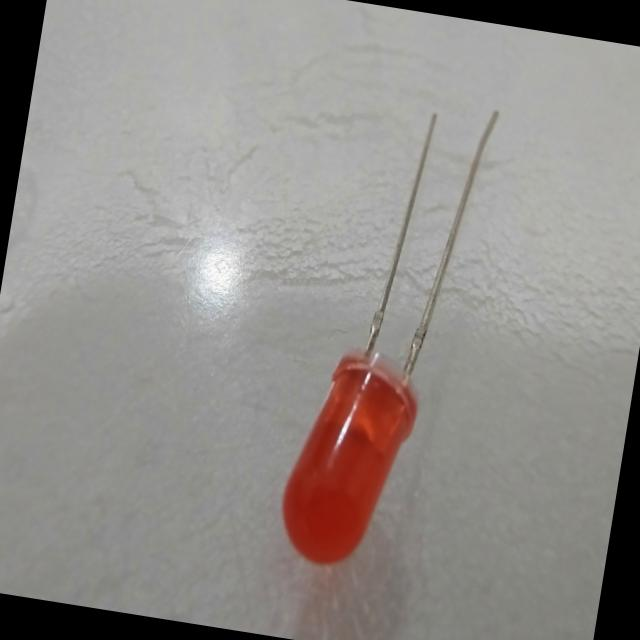red_led: (258, 328, 470, 606)
